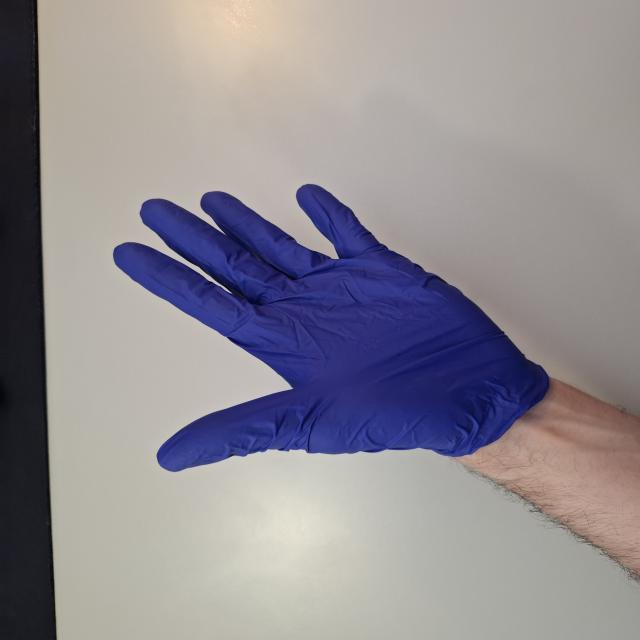glove_on: (110, 181, 559, 478)
